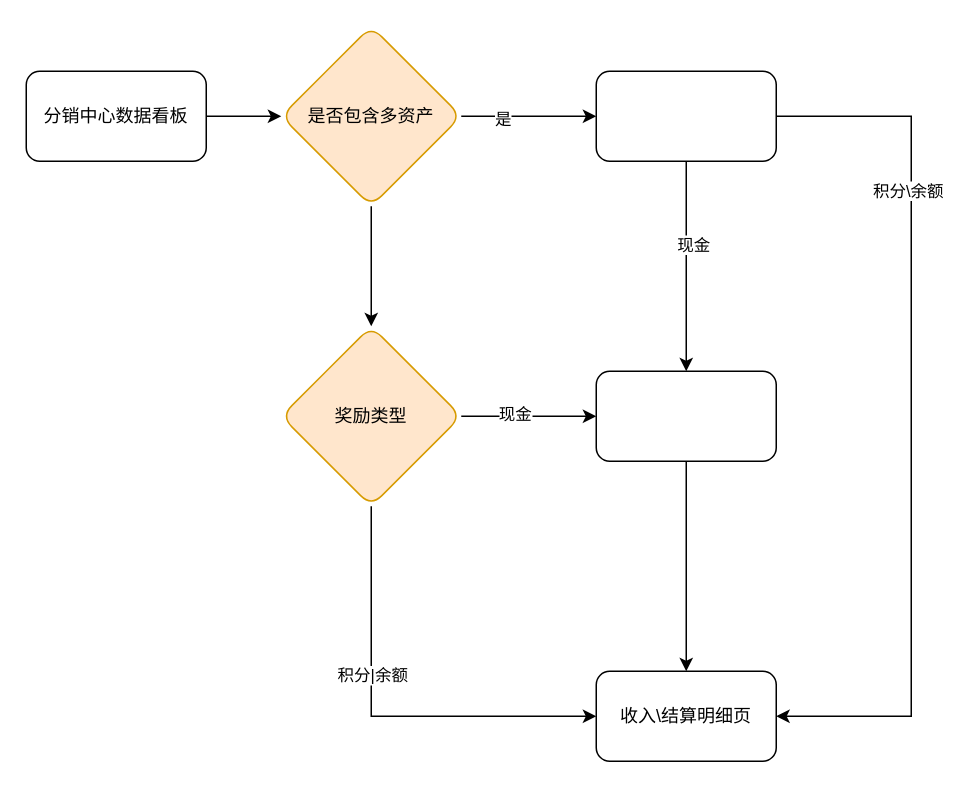
This 969x788 diagram has some shape labels left out. The shapes that lost their labels are listed below. From the top down, each one's box as (x1, y1, x2, y2) in pixels, then its label:
(595, 70, 776, 161): 资产列表页
(595, 370, 776, 461): 现金奖励详情页
